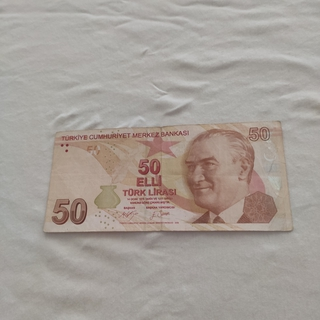50TLFront: (42, 120, 293, 232)
